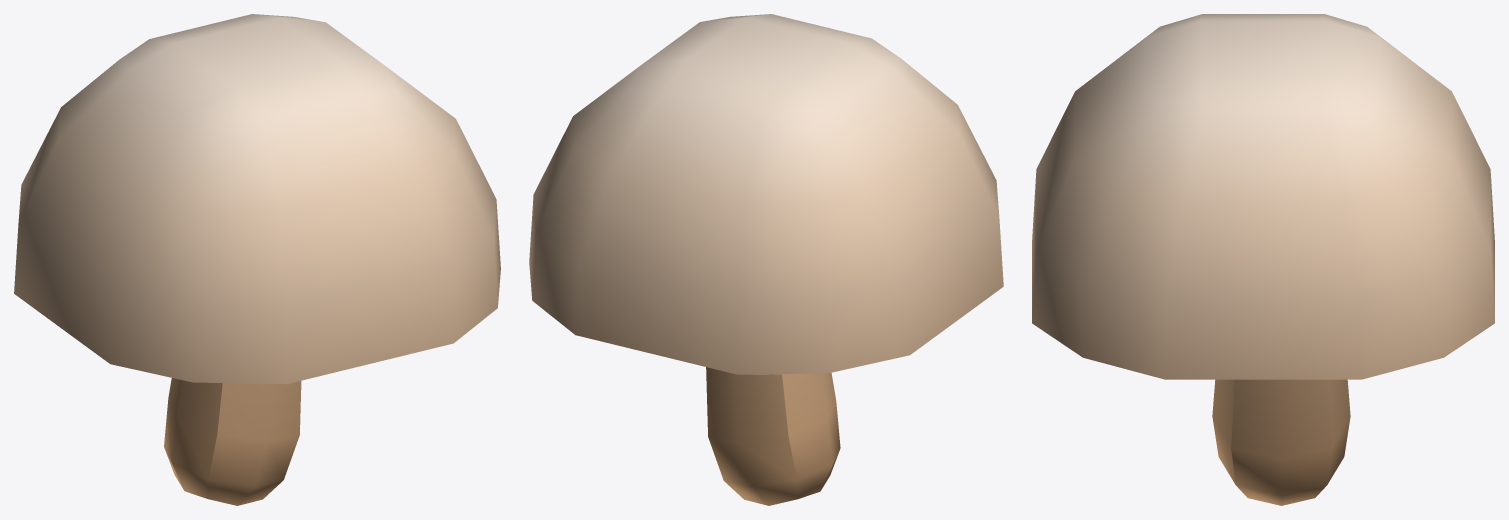
Rendered from mushroom.glb.
The picture shows the model from 3 angles, left to right: view 1: azimuth 30°, elevation 25°; view 2: azimuth 150°, elevation 25°; view 3: azimuth 270°, elevation 25°; orthographic projection. The views are drawn at different scales.
Visible parts, largest first — view 1: food_ingredient_mushroom; view 2: food_ingredient_mushroom; view 3: food_ingredient_mushroom.
Boxes of the visible parts, bbox=[...] form: food_ingredient_mushroom: bbox=[14, 14, 500, 505]; food_ingredient_mushroom: bbox=[529, 14, 1003, 505]; food_ingredient_mushroom: bbox=[1032, 14, 1494, 505].
Bounding box in the file's own units: 0.5227 × 0.5707 × 0.5227.
1 material, 1 textured.
